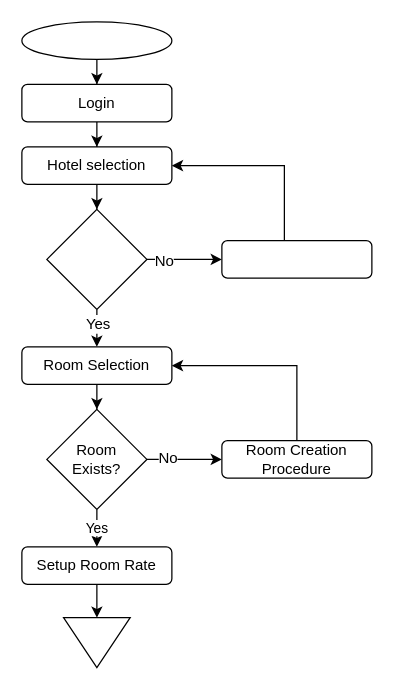
Image size: 394x690. Some labels were removed from this diagram. The box of each missing label's shape, as (x1, y1, x2, y2) in pixels:
Hotel Creation Procedure: (221, 239, 372, 278)
Hotel exists?: (46, 208, 147, 309)
Start: (21, 21, 172, 59)
